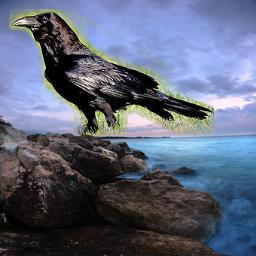Crow: (9, 9, 214, 135)
